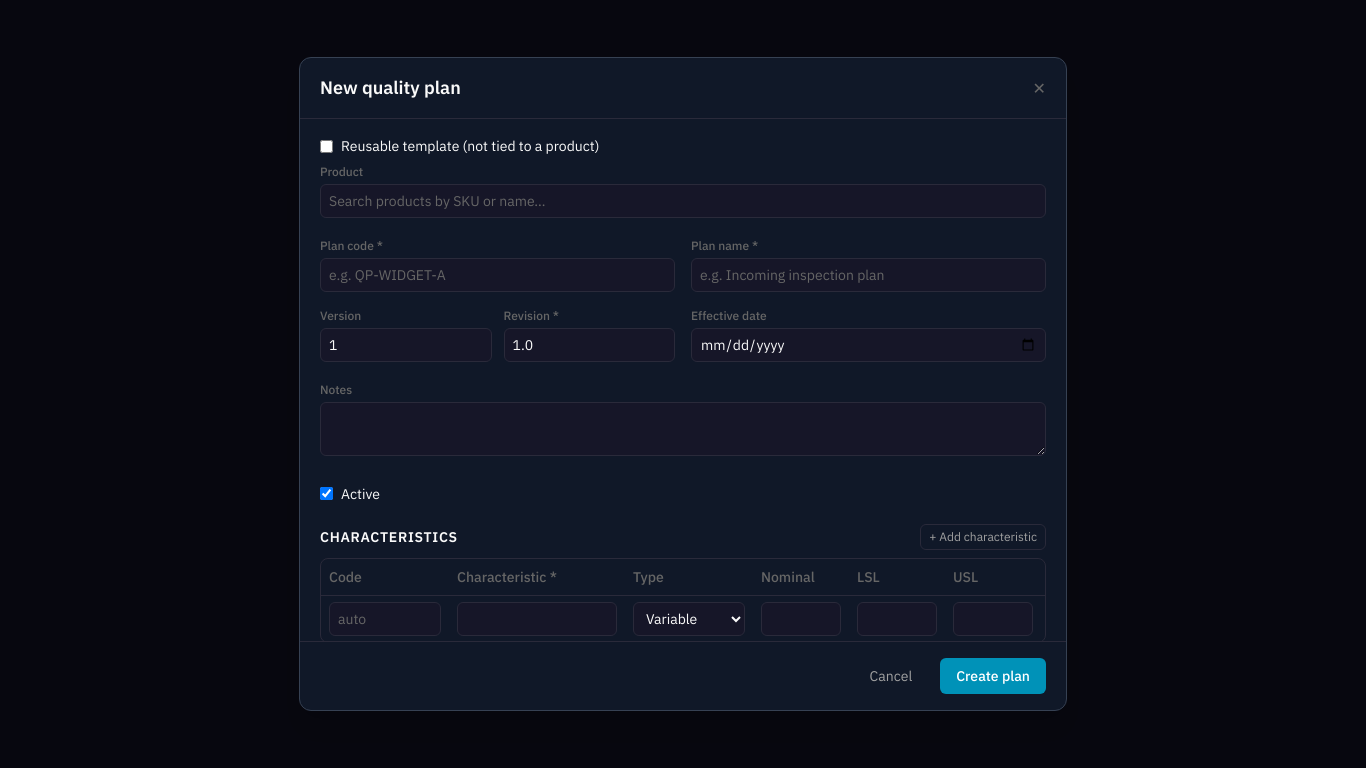
Test: QualityPlanEditor › blocks save when a lower limit exceeds the upper limit
The width and height of the screenshot is (1366, 768).
Step 1. Click the checkbox labelled "Reusable template (not tied to a product)" → (326, 146), box left=320, top=140, right=333, bottom=153
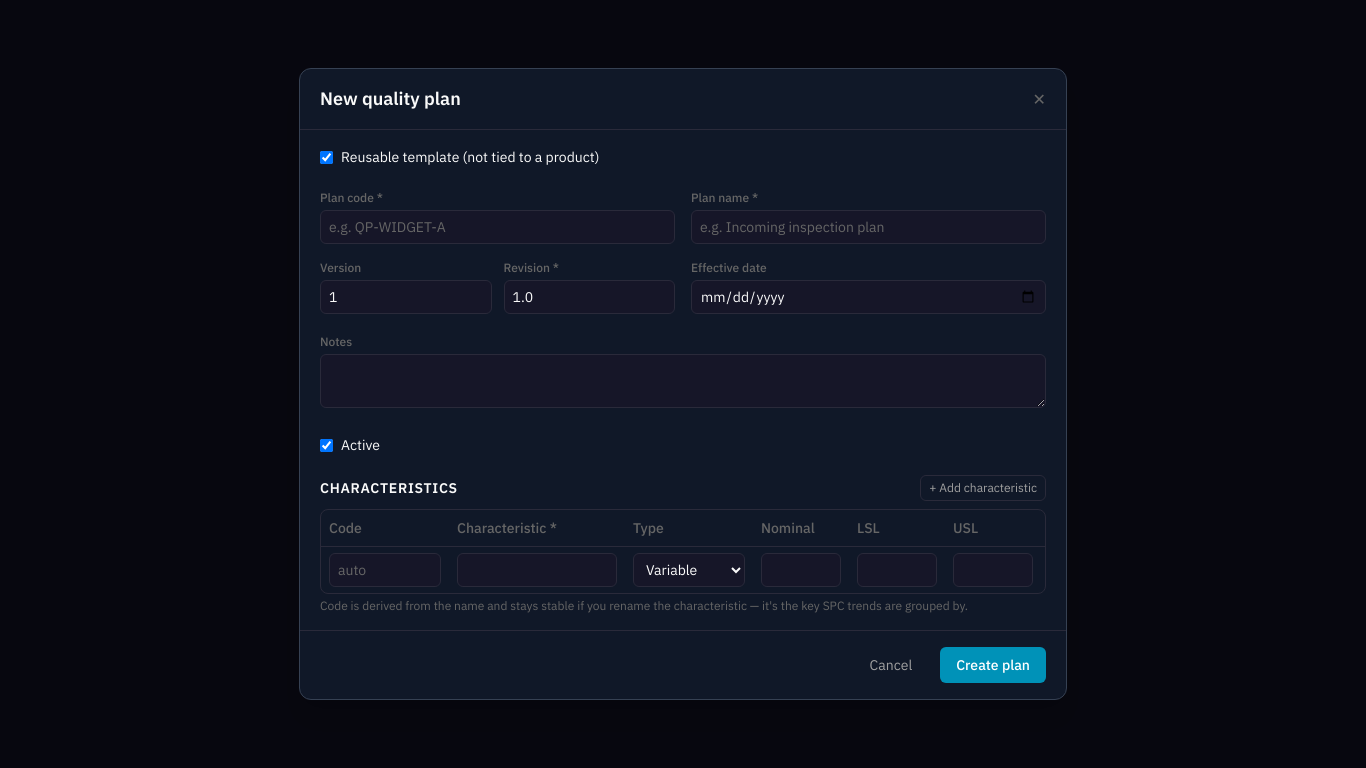
Step 2. Type "QP-T" into the field labelled "Plan code *" → (498, 227), box left=320, top=210, right=675, bottom=244
Step 3. Type "Template" into the field labelled "Plan name *" → (868, 227), box left=691, top=210, right=1046, bottom=244
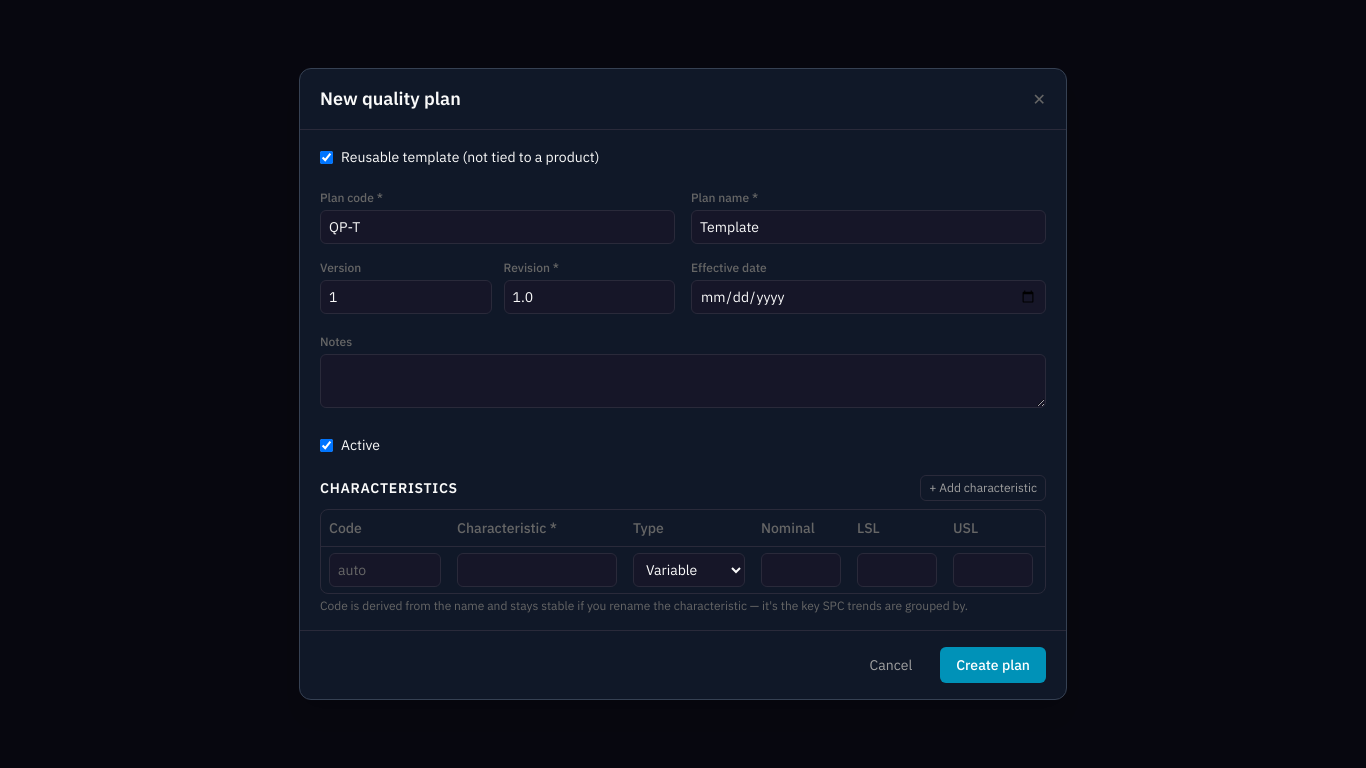
Step 4. Type "bore" into the field named "Characteristic name" → (537, 570), box left=457, top=553, right=617, bottom=587
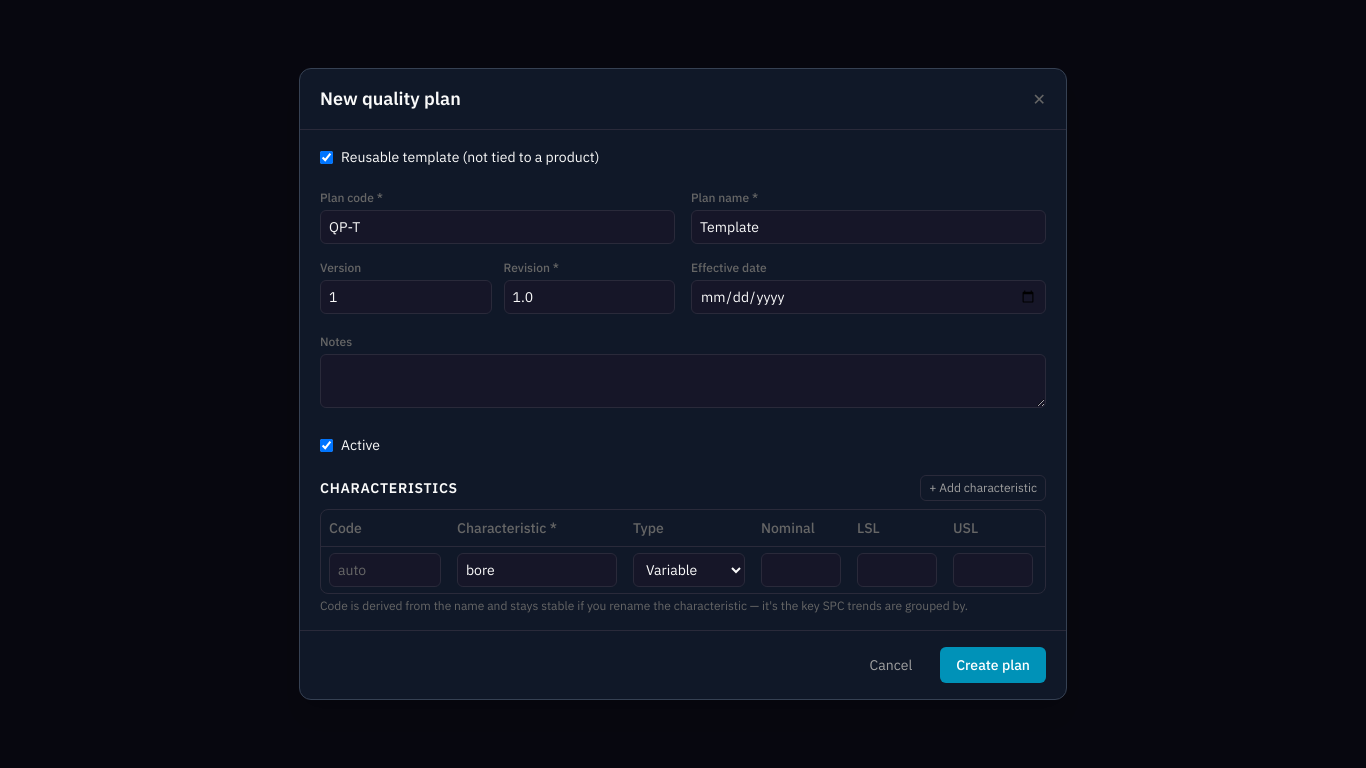
Step 5. Type "10" into the number field named "Lower spec limit" → (897, 570), box left=857, top=553, right=937, bottom=587
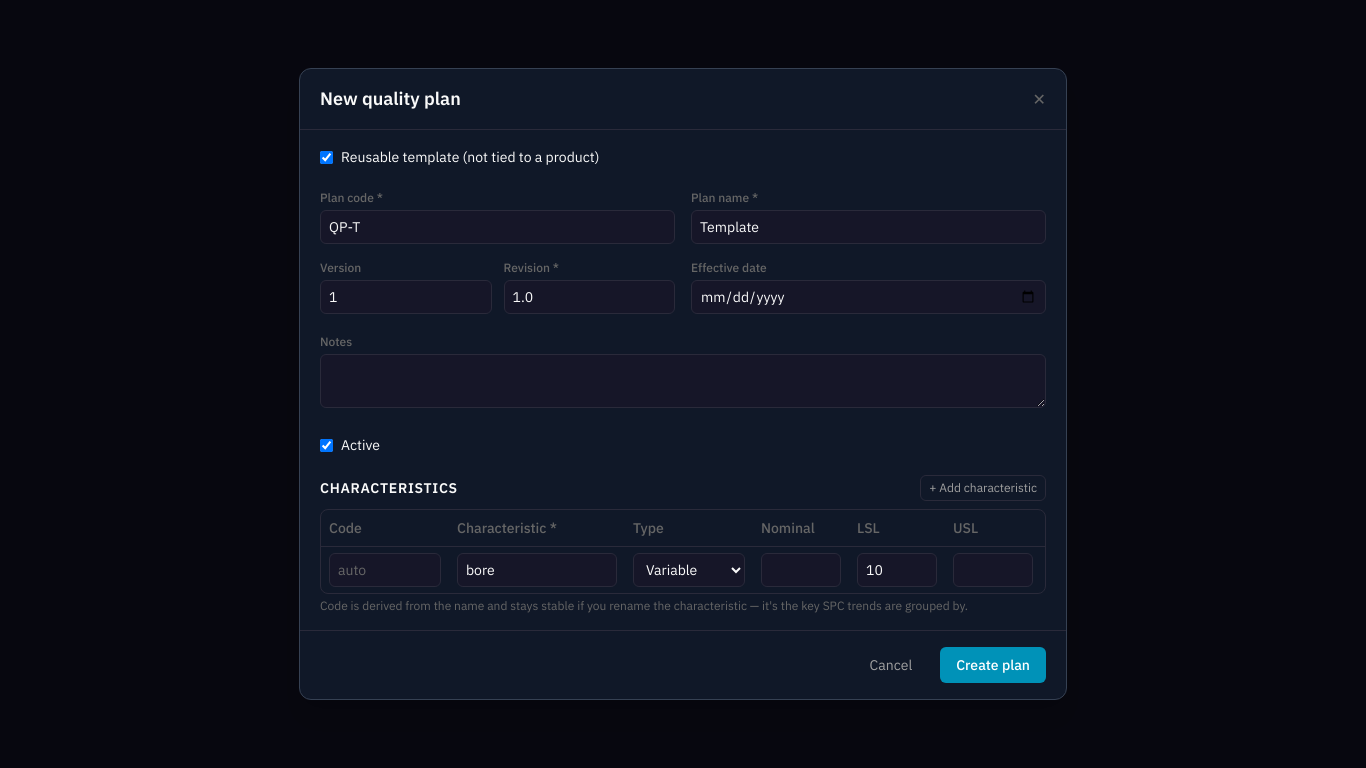
Step 6. Type "5" into the number field named "Upper spec limit" → (993, 570), box left=953, top=553, right=1033, bottom=587
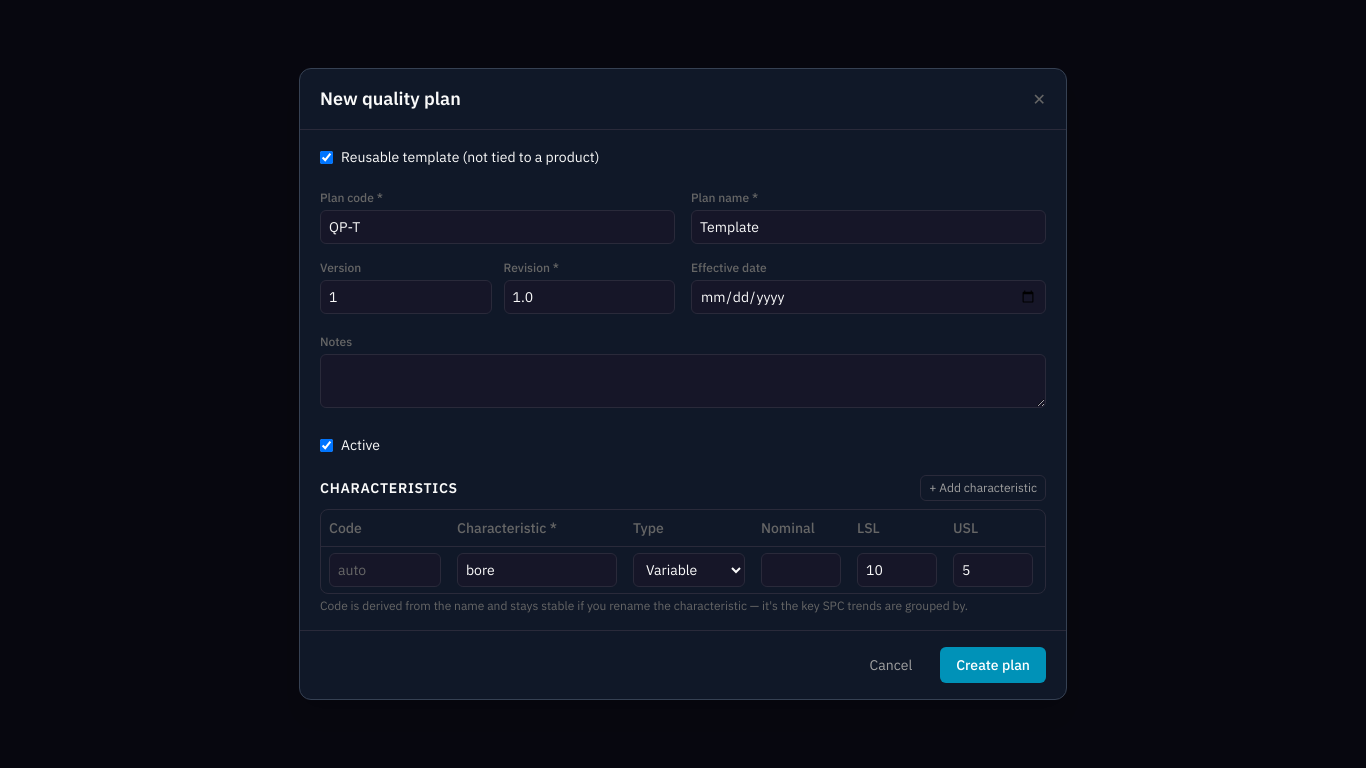
Step 7. Click the button "Create plan" → (993, 665), box left=940, top=647, right=1046, bottom=683
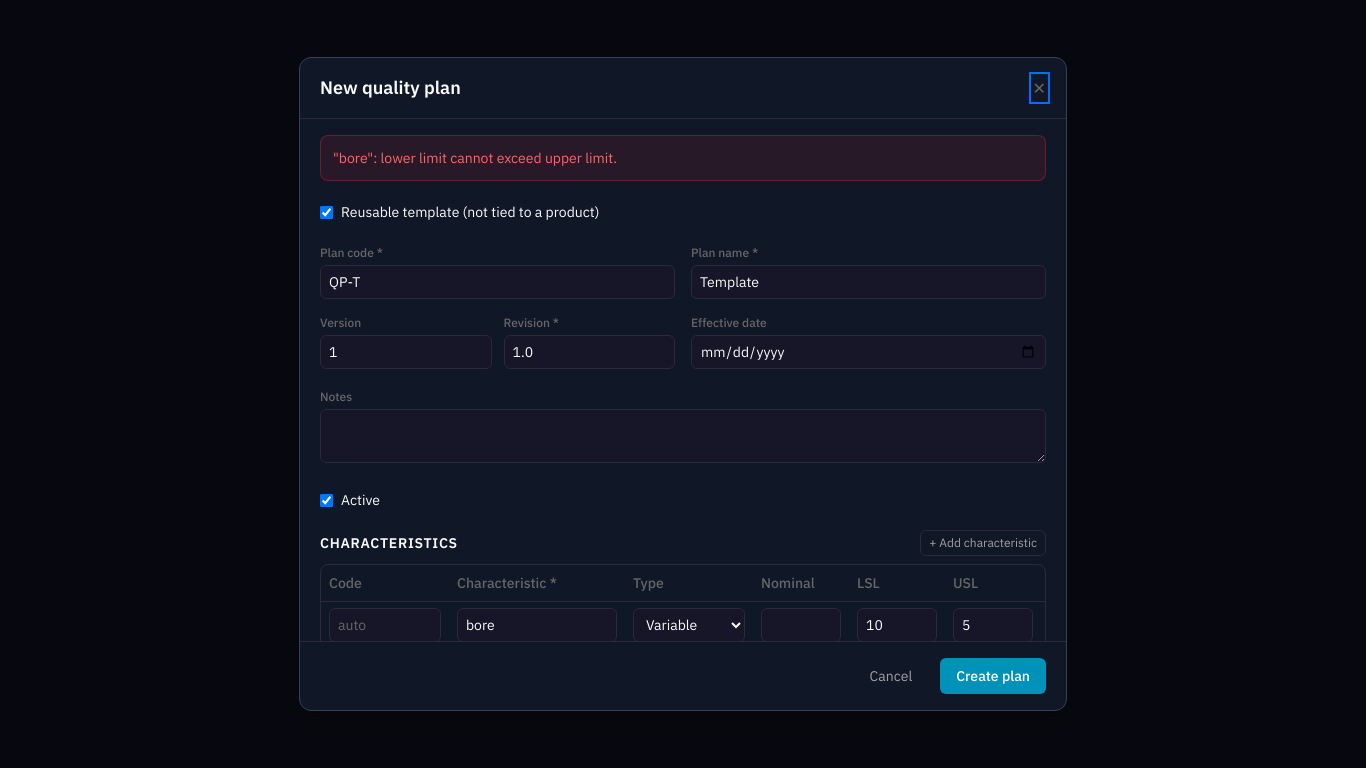
Check: the text "\"bore\": lower limit cannot exceed upper limit." is shown, box left=320, top=135, right=1046, bottom=181
